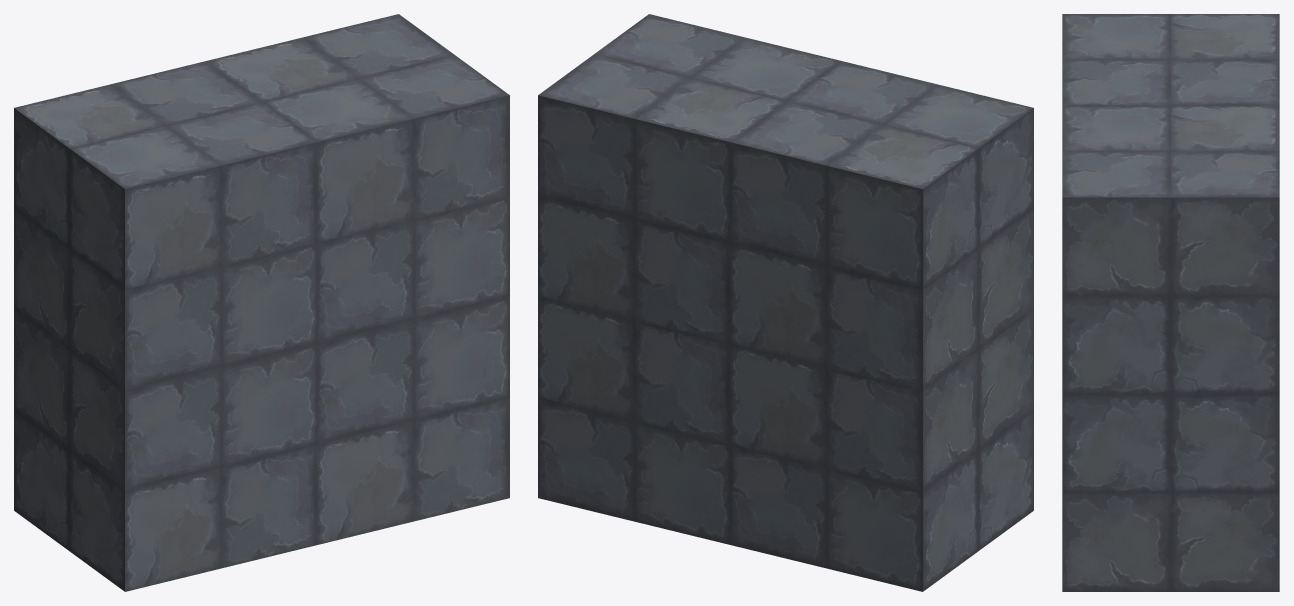
File: Castle Block 4x2x4.fbx
3 renders of one model, left to right at view 1: azimuth 30°, elevation 25°; view 2: azimuth 150°, elevation 25°; view 3: azimuth 270°, elevation 25°, orthographic. The views are drawn at different scales.
Visible parts, largest first — view 1: Castle Block 4x2x4; view 2: Castle Block 4x2x4; view 3: Castle Block 4x2x4.
Boxes of the visible parts, x1,y1,x2,y2 form: Castle Block 4x2x4: (14, 14, 509, 591); Castle Block 4x2x4: (538, 14, 1033, 591); Castle Block 4x2x4: (1062, 14, 1279, 591).
Size of the model in its own units: 3 by 3 by 1.5.
